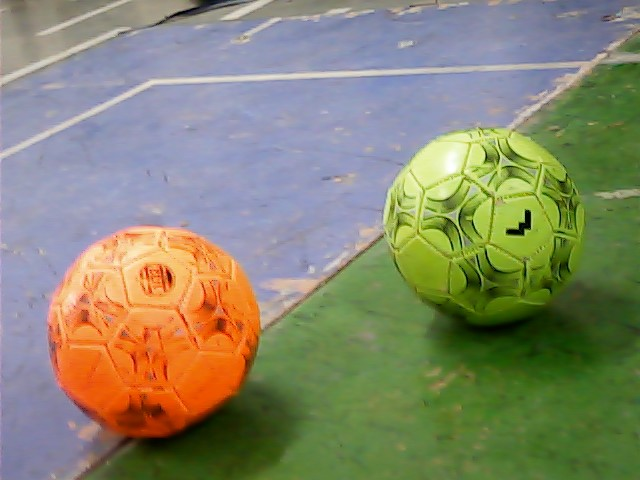Green_ball: (382, 123, 587, 331)
Orange_ball: (43, 225, 267, 440)
